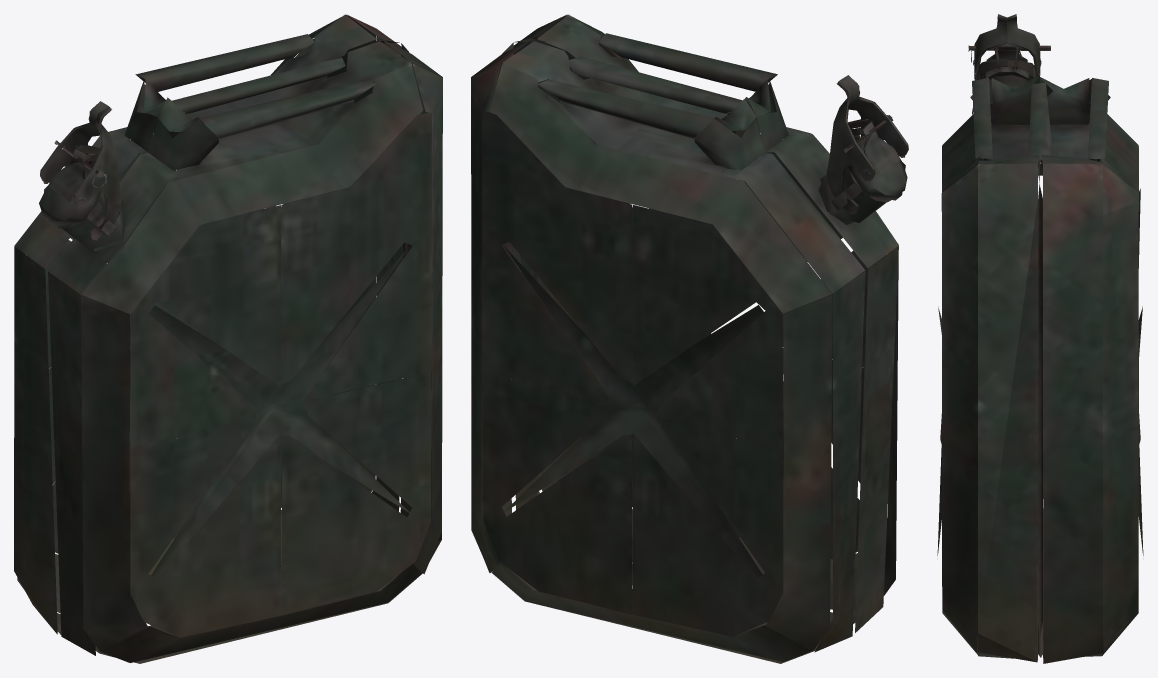
The model's file is metal_jerrycan_green.glb.
3 renders of one model, left to right at view 1: azimuth 30°, elevation 25°; view 2: azimuth 150°, elevation 25°; view 3: azimuth 270°, elevation 25°, orthographic. The views are drawn at different scales.
Visible parts, largest first — view 1: metal_jerrycan_green_pin; view 2: metal_jerrycan_green_pin; view 3: metal_jerrycan_green_pin.
Boxes of the visible parts, x1,y1,x2,y2 form: metal_jerrycan_green_pin: (14, 14, 442, 663); metal_jerrycan_green_pin: (471, 14, 908, 663); metal_jerrycan_green_pin: (937, 14, 1143, 663).
Size of the model in its own units: 0.3614 by 0.5 by 0.1794.
1 material, 1 textured.
